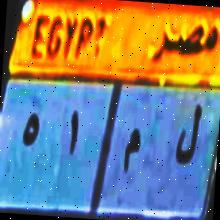1: (62, 100, 88, 156)
5: (16, 108, 50, 146)
laam: (170, 103, 204, 170)
meem: (121, 119, 144, 180)
